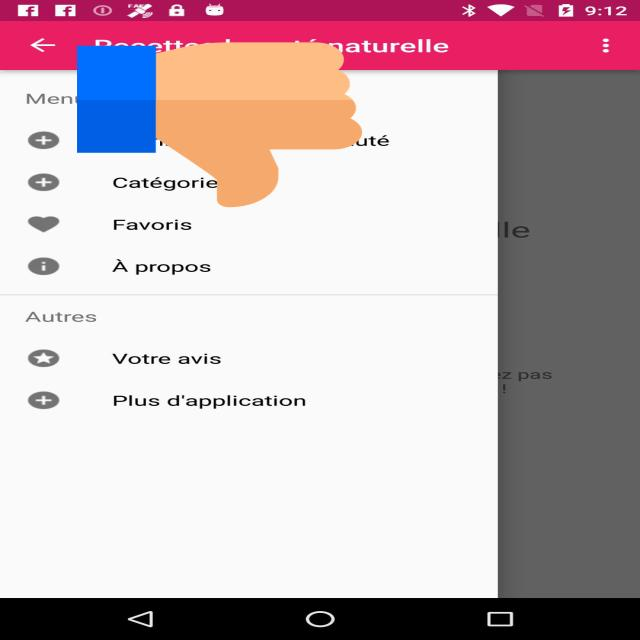obstruction: (77, 38, 362, 212)
